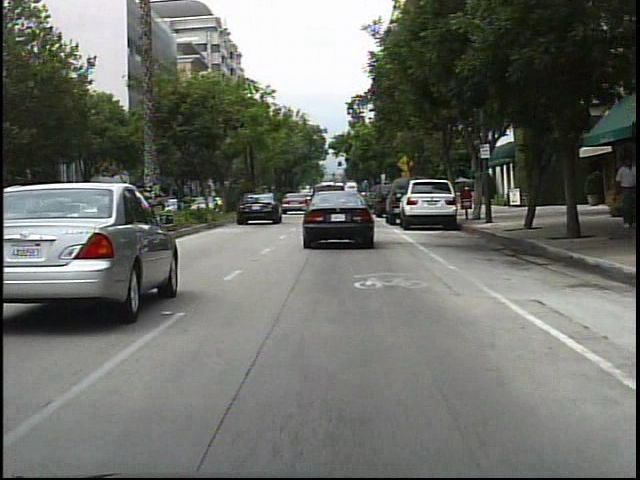person: (606, 158, 633, 230)
